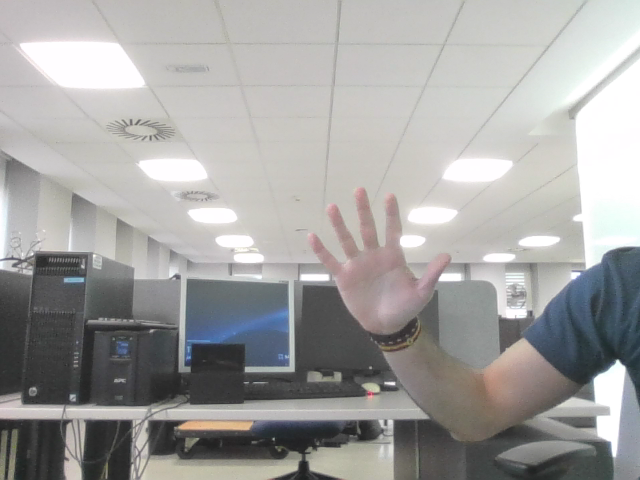Mano Abierta: (319, 199, 438, 307)
